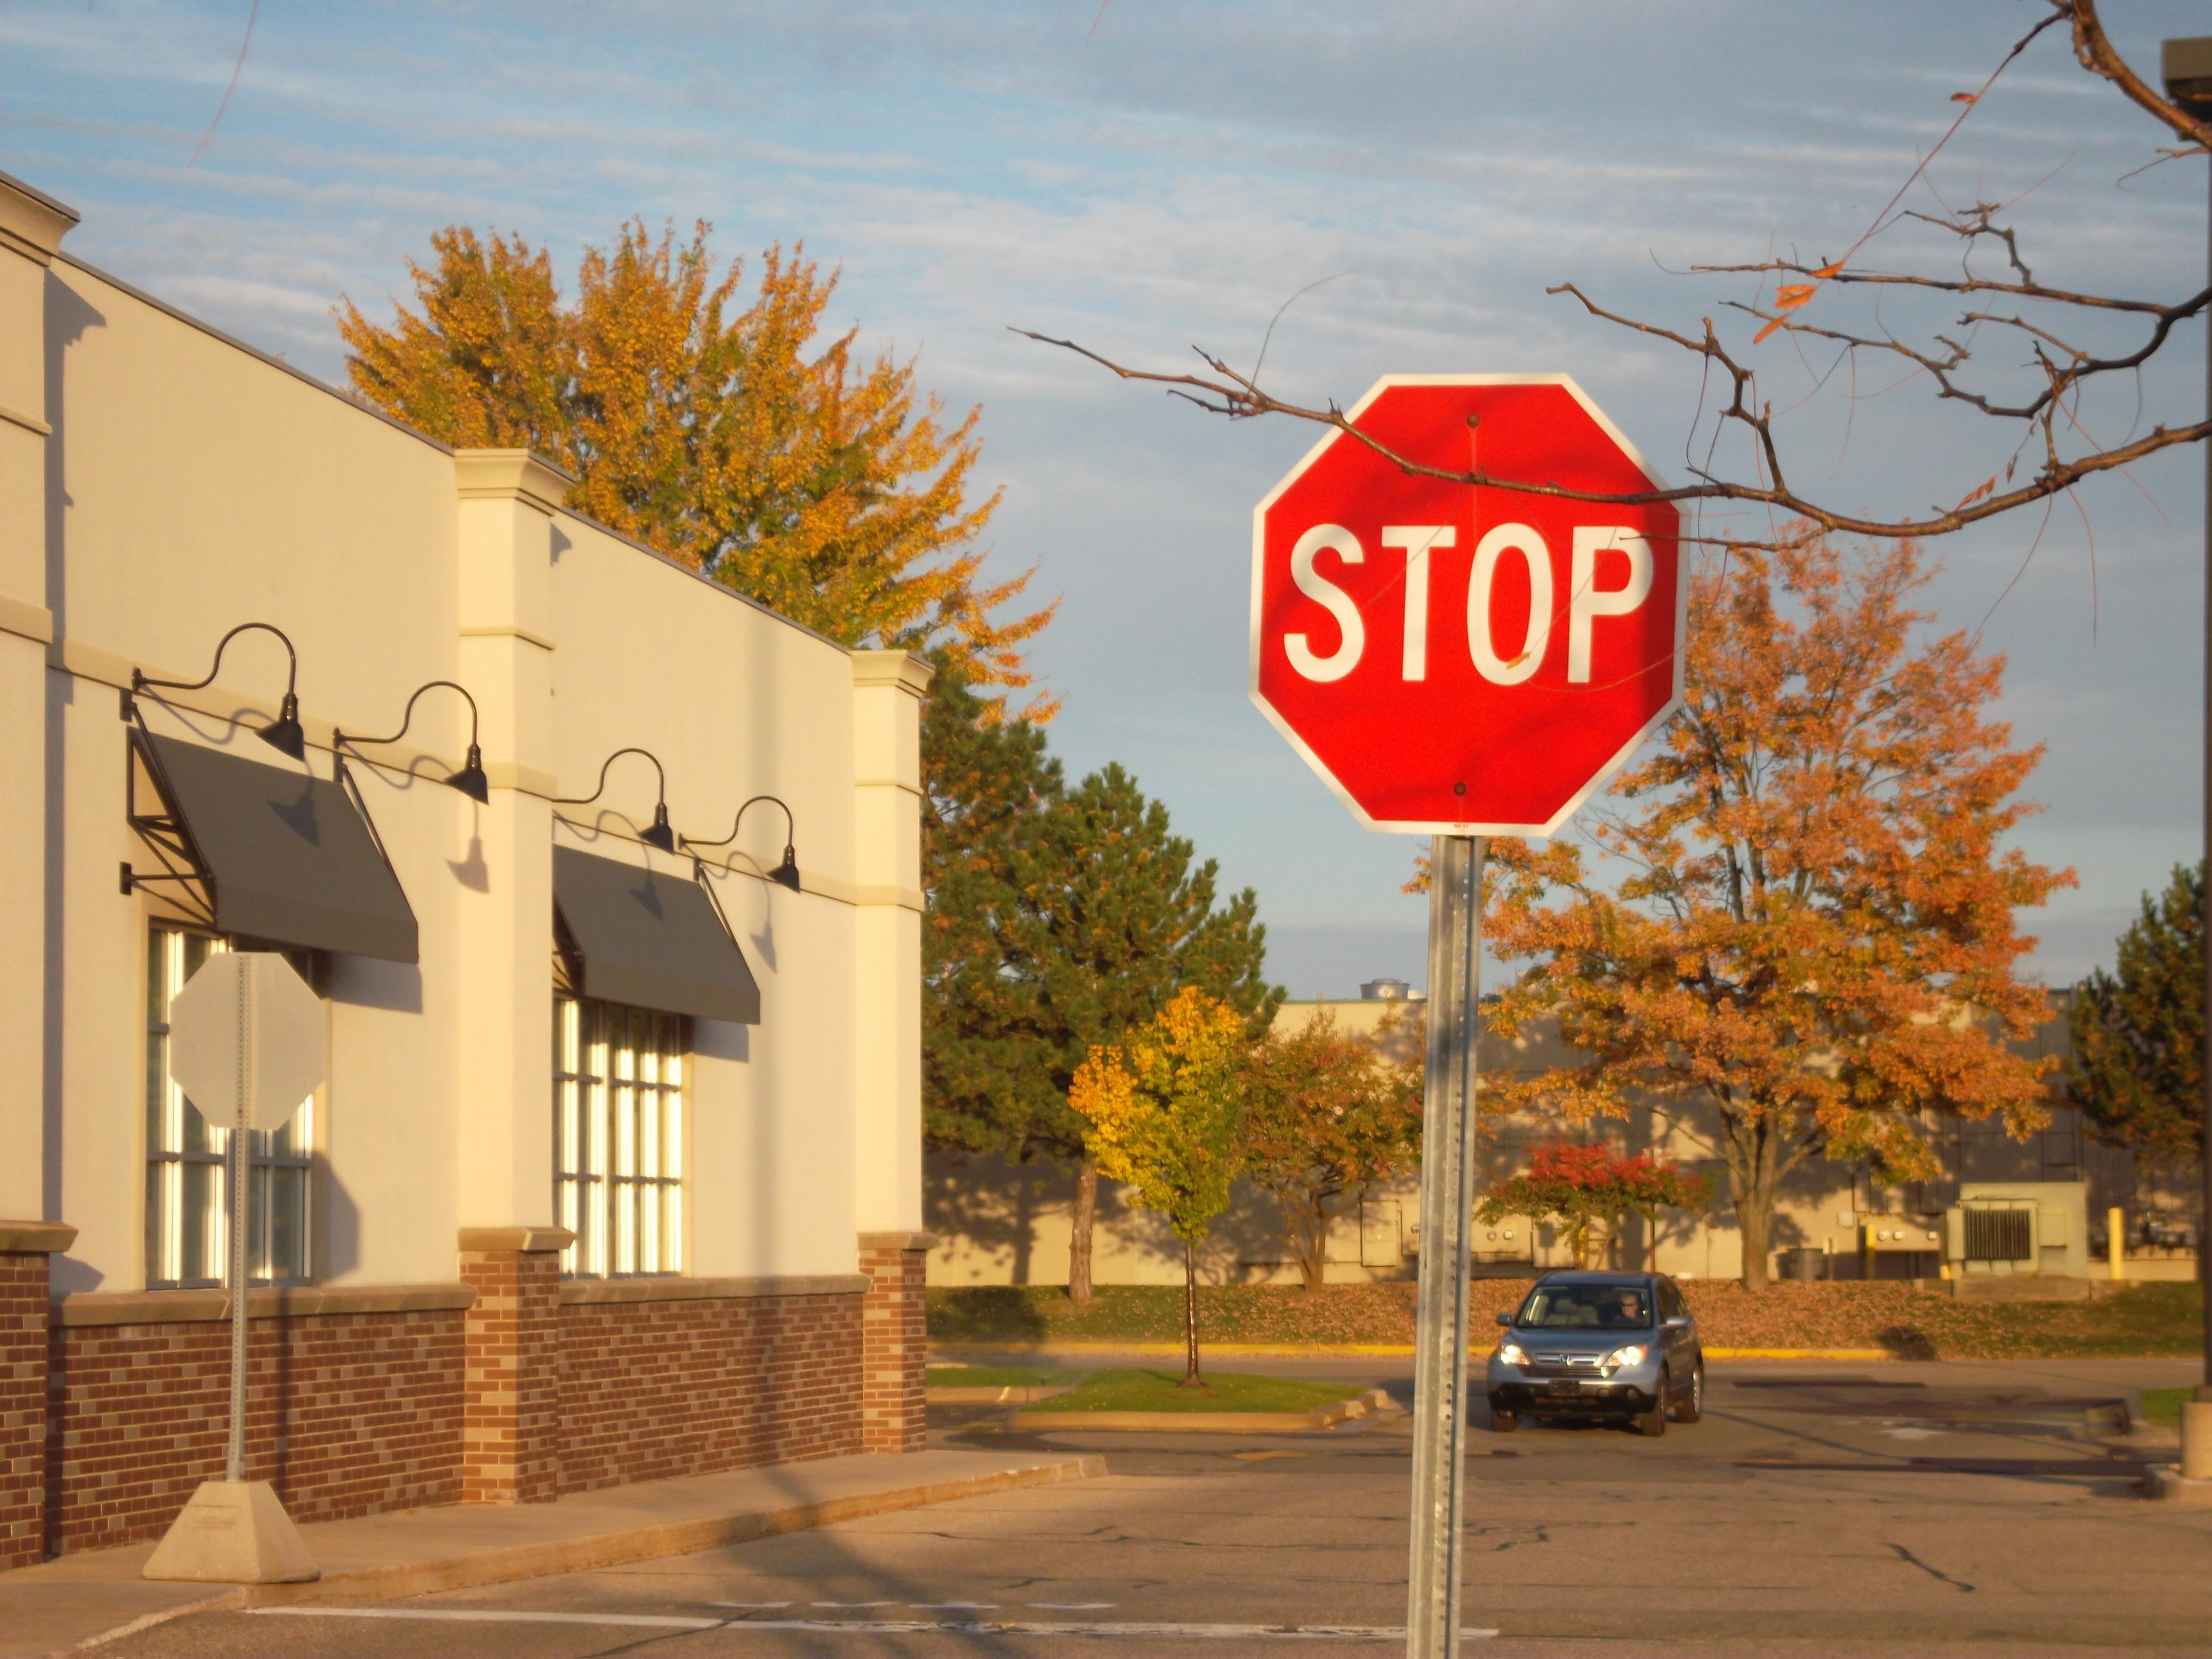stop: (1235, 354, 1716, 840)
